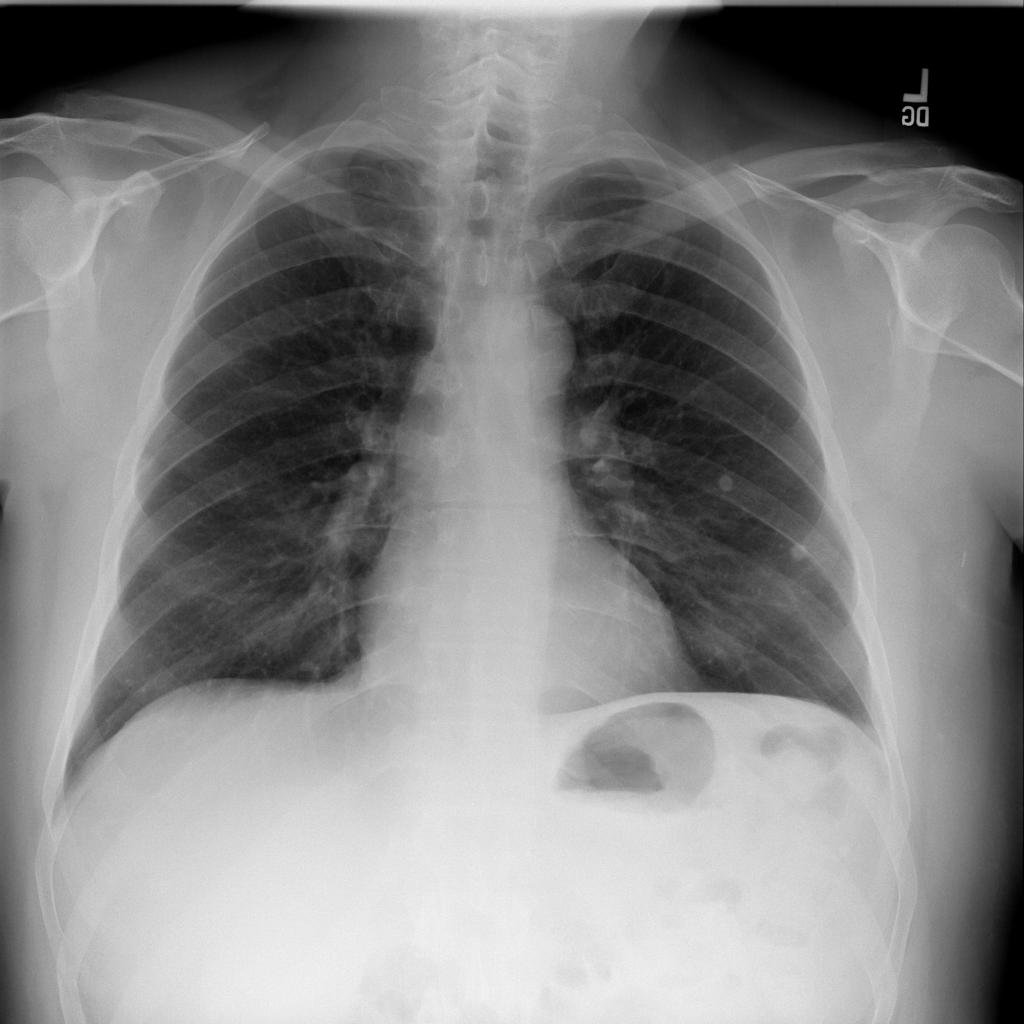nodule: (670, 584, 774, 681), (775, 525, 826, 575), (700, 454, 750, 504)
